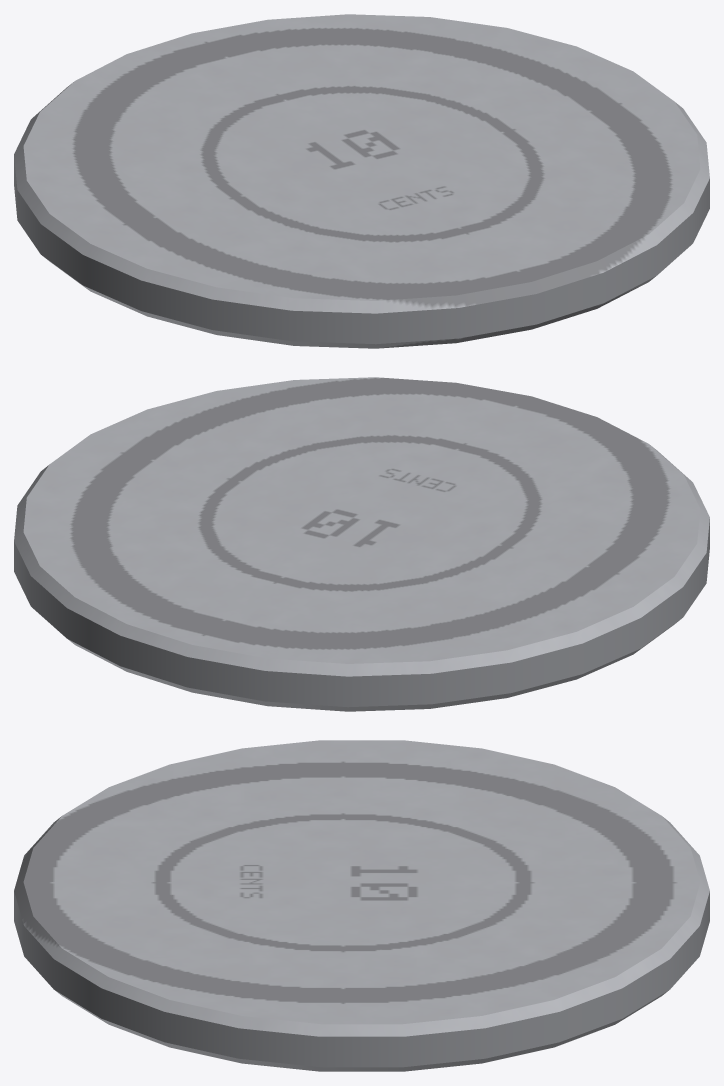
The model's file is cash_coin_10.glb.
3 renders of one model, top to bottom at view 1: azimuth 30°, elevation 25°; view 2: azimuth 150°, elevation 25°; view 3: azimuth 270°, elevation 25°, orthographic.
Parts seen in each view (by area): view 1: Coin_Body; view 2: Coin_Body; view 3: Coin_Body.
Part boxes in pixels (box(x1,y1,x2,y2)): Coin_Body: box(14, 14, 709, 348); Coin_Body: box(14, 377, 709, 711); Coin_Body: box(14, 740, 709, 1071).
Size of the model in its own units: 0.0178 by 0.00135 by 0.0179.
Materials: 1 (1 with a texture image).
